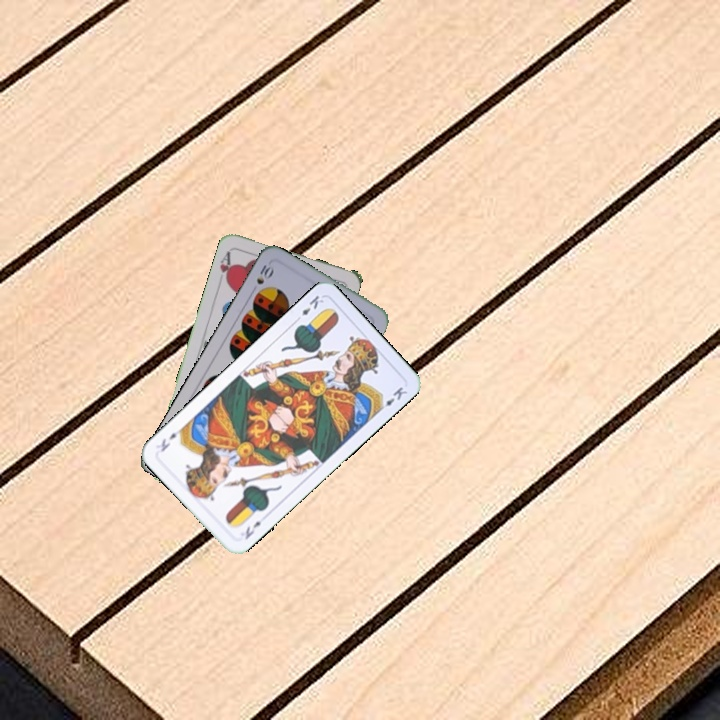EK: (291, 291, 326, 325), (241, 517, 264, 542)
HA: (216, 247, 236, 286)
S10: (247, 259, 277, 296)
